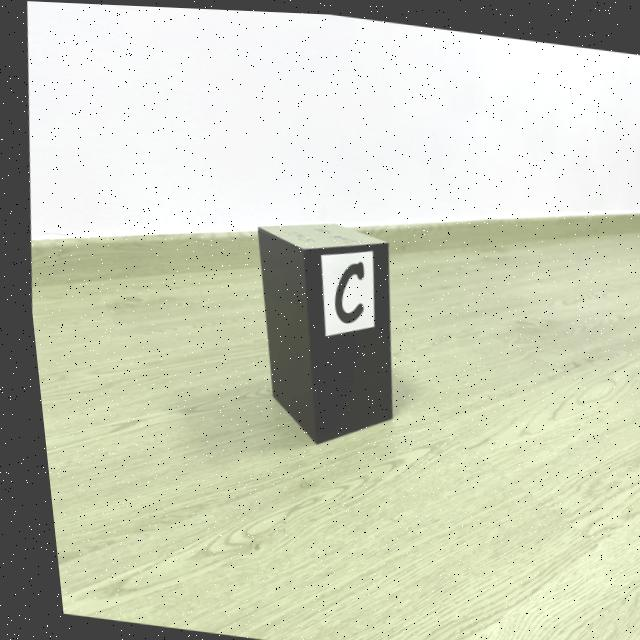C: (327, 258, 358, 321)
